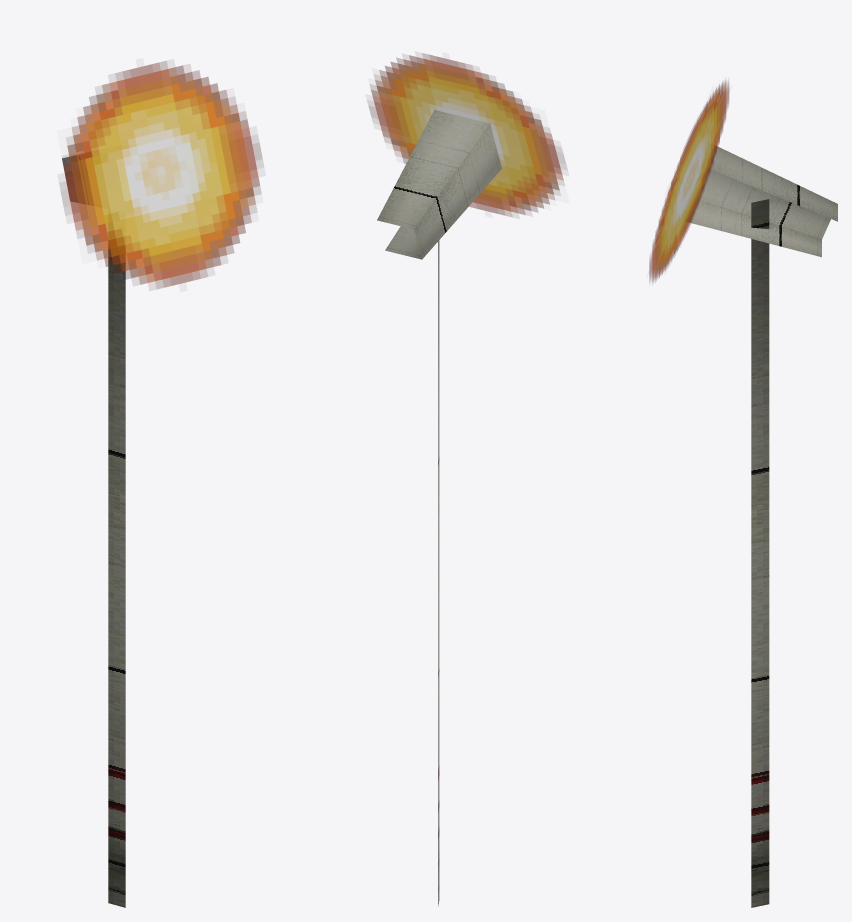
The model's file is stage-flor-p1-79.glb.
3 renders of one model, left to right at view 1: azimuth 30°, elevation 25°; view 2: azimuth 150°, elevation 25°; view 3: azimuth 270°, elevation 25°, orthographic. The views are drawn at different scales.
Bounding box in the file's own units: 2.23 × 7.85 × 1.68.
2 materials, 2 textured.
